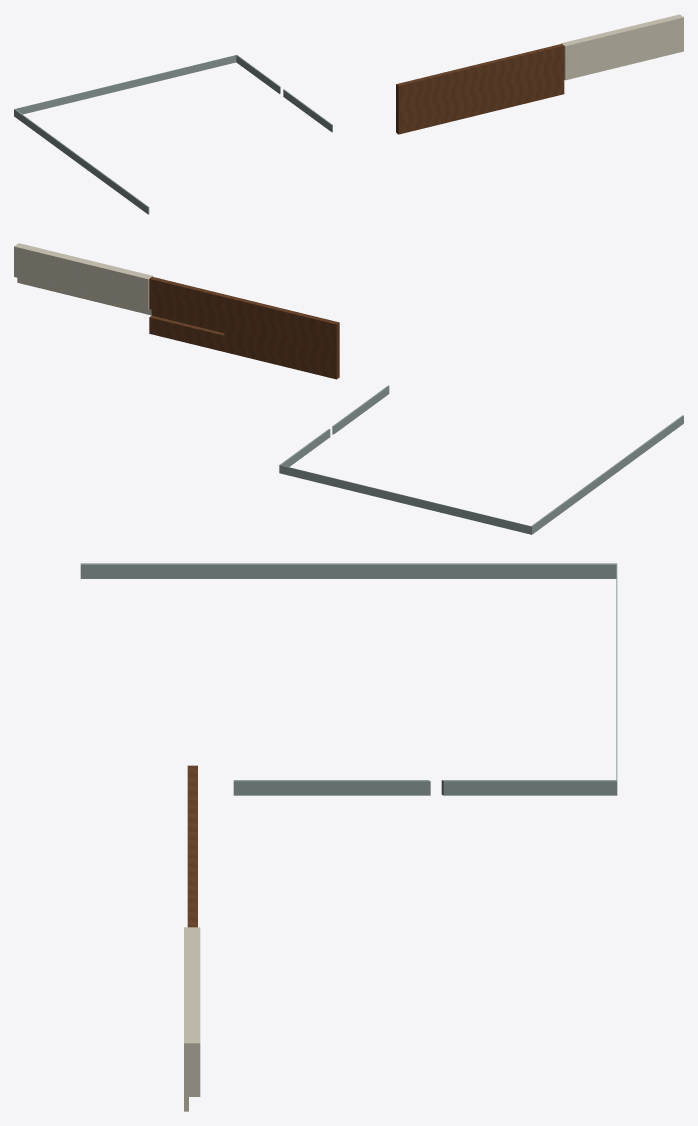
The model's file is D04_STARBOARD_AFT_COMMONS_ENCLOSURE_r001.glb.
The picture shows the model from 3 angles, top to bottom: view 1: azimuth 30°, elevation 25°; view 2: azimuth 150°, elevation 25°; view 3: azimuth 270°, elevation 25°; orthographic projection. The views are drawn at different scales.
Visible parts, largest first — view 1: SAE_Fitted_0_6, SAE_Fitted_1_2, SAE_Fitted_0_0, SAE_Fitted_3_0, SAE_Fitted_0_4, SAE_Fitted_2_0, SAE_Fitted_1_0, SAE_Fitted_4_3, SAE_Fitted_4_0; view 2: SAE_Fitted_0_7, SAE_Fitted_1_3, SAE_Fitted_0_1, SAE_Fitted_3_1, SAE_Fitted_2_0, SAE_Fitted_0_3, SAE_Fitted_1_1, SAE_Fitted_4_3, SAE_Fitted_0_6, SAE_Fitted_0_2, SAE_Fitted_1_2; view 3: SAE_Fitted_2_1, SAE_Fitted_4_2, SAE_Fitted_4_1, SAE_Fitted_1_3, SAE_Fitted_0_6, SAE_Fitted_1_2, SAE_Fitted_0_7.
Boxes of the visible parts, x1,y1,x2,y2 form: SAE_Fitted_0_6: [396, 46, 564, 112]; SAE_Fitted_1_2: [561, 17, 683, 72]; SAE_Fitted_0_0: [396, 80, 564, 134]; SAE_Fitted_3_0: [14, 55, 236, 116]; SAE_Fitted_0_4: [398, 72, 564, 119]; SAE_Fitted_2_0: [14, 109, 149, 214]; SAE_Fitted_1_0: [565, 44, 683, 80]; SAE_Fitted_4_3: [283, 90, 332, 132]; SAE_Fitted_4_0: [236, 55, 280, 93]; SAE_Fitted_0_7: [149, 276, 336, 354]; SAE_Fitted_1_3: [14, 243, 148, 309]; SAE_Fitted_0_1: [149, 315, 336, 379]; SAE_Fitted_3_1: [279, 465, 531, 534]; SAE_Fitted_2_0: [532, 415, 683, 534]; SAE_Fitted_0_3: [224, 327, 336, 362]; SAE_Fitted_1_1: [17, 278, 151, 315]; SAE_Fitted_4_3: [334, 385, 389, 433]; SAE_Fitted_0_6: [159, 278, 339, 354]; SAE_Fitted_0_2: [151, 310, 224, 332]; SAE_Fitted_1_2: [23, 244, 152, 309]; SAE_Fitted_2_1: [80, 563, 616, 578]; SAE_Fitted_4_2: [233, 780, 430, 795]; SAE_Fitted_4_1: [443, 780, 616, 795]; SAE_Fitted_1_3: [184, 929, 200, 1096]; SAE_Fitted_0_6: [187, 765, 197, 924]; SAE_Fitted_1_2: [184, 927, 200, 1040]; SAE_Fitted_0_7: [187, 767, 197, 927].
Size of the model in its own units: 20.34 by 1.68 by 8.42.
Materials: 3 (2 with a texture image).
